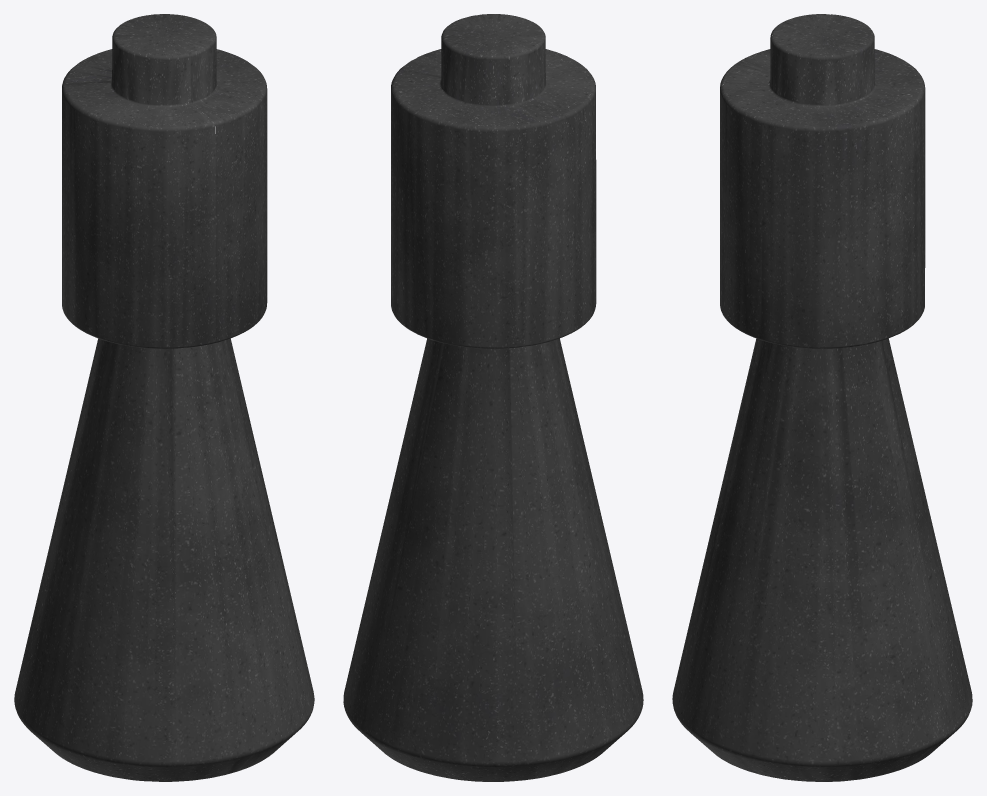
Rendered from king-black.glb.
3 views of the same model, side by side, from view 1: azimuth 30°, elevation 25°; view 2: azimuth 150°, elevation 25°; view 3: azimuth 270°, elevation 25° (orthographic).
Visible parts, largest first — view 1: 04_kral_cerna; view 2: 04_kral_cerna; view 3: 04_kral_cerna.
Boxes of the visible parts, box(x1,y1,x2,y2) form: 04_kral_cerna: box(14, 14, 314, 781); 04_kral_cerna: box(343, 14, 643, 781); 04_kral_cerna: box(672, 14, 972, 781).
Bounding box in the file's own units: 0.6171 × 1.58 × 0.6169.
1 material, 1 textured.
